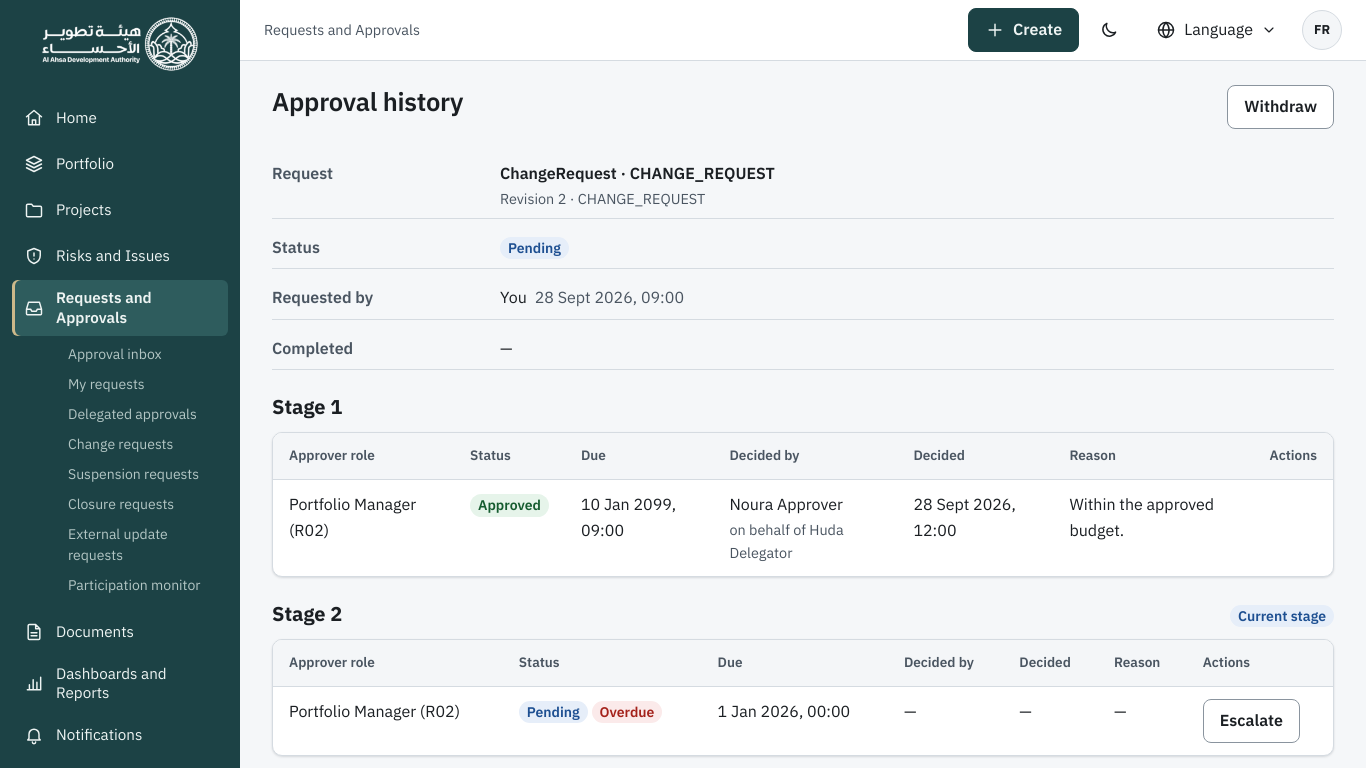
Test case: SCR-115 approval history › an escalation the API refuses is explained
Click the button "Escalate" at coordinates (1251, 721), box [1203,699,1300,743]
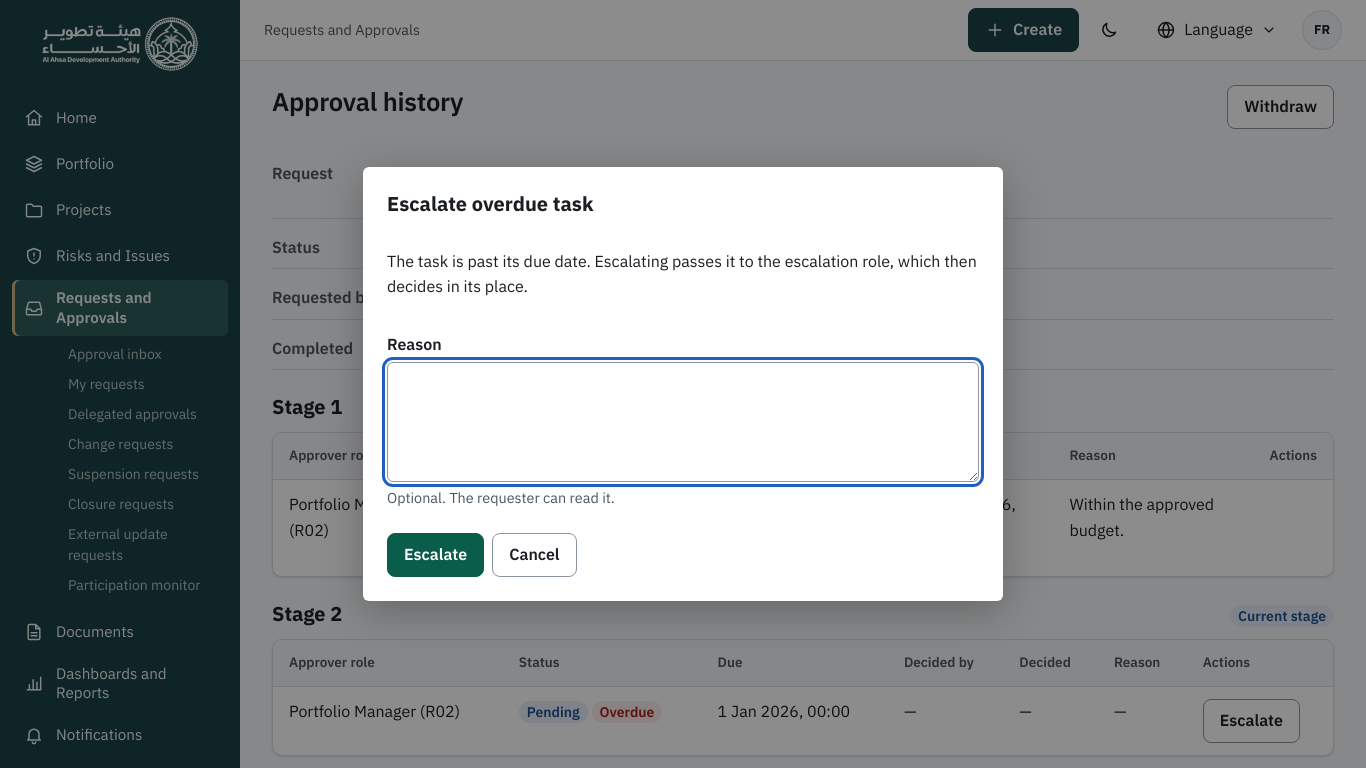
Click the button "Escalate" at coordinates (436, 555), box [387,533,484,577]
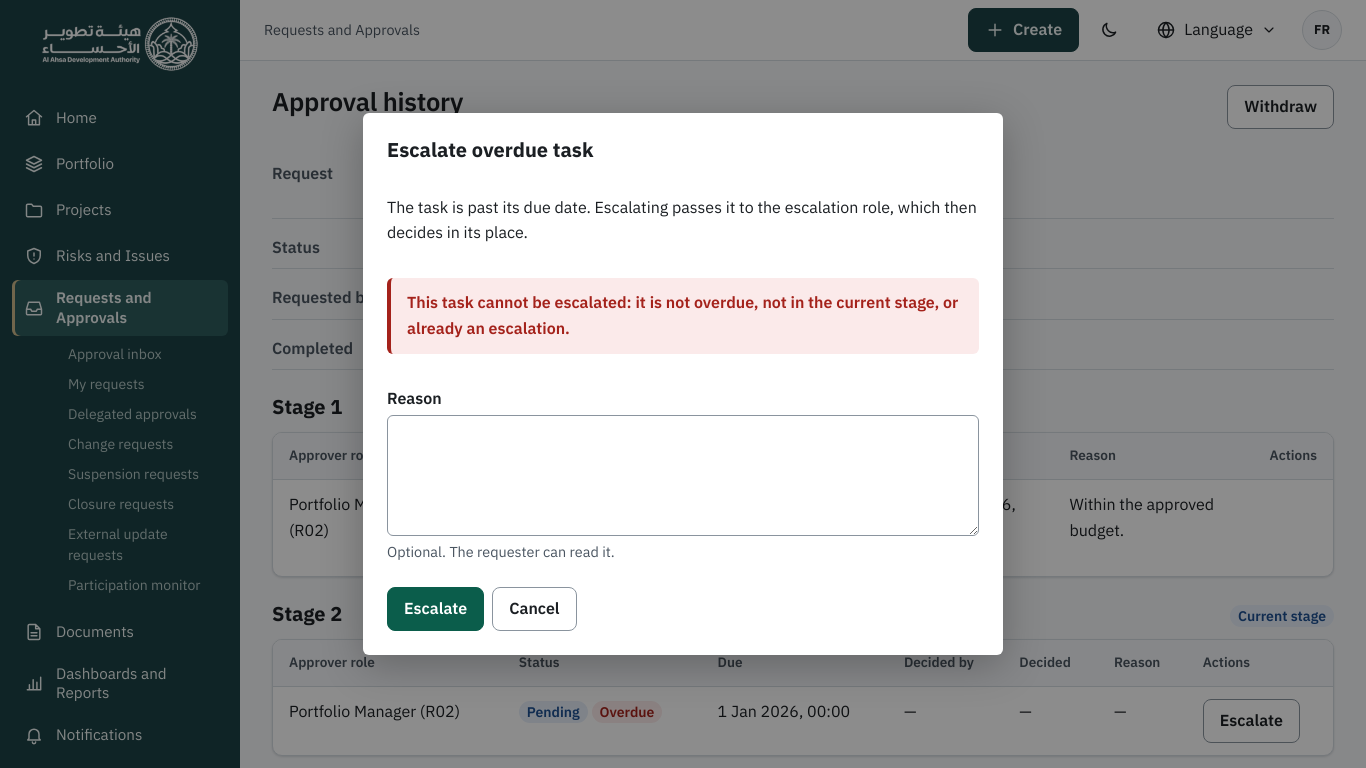
Now the message shows "This task cannot be escalated: it is not overdue, not in the current stage, or already an escalation.", box [407,292,958,338]
